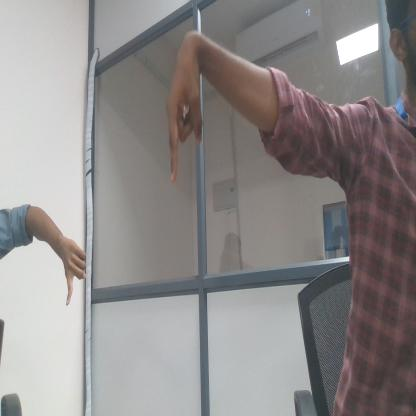Down: (165, 28, 206, 192)
